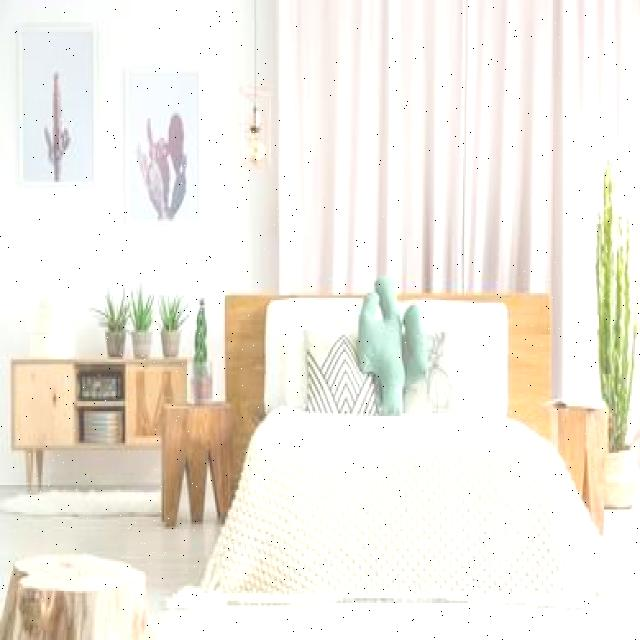bed: (236, 301, 530, 598)
